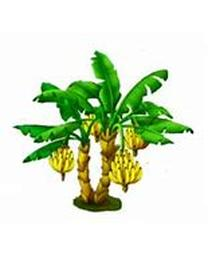banana: (110, 147, 144, 193), (50, 145, 76, 182)
